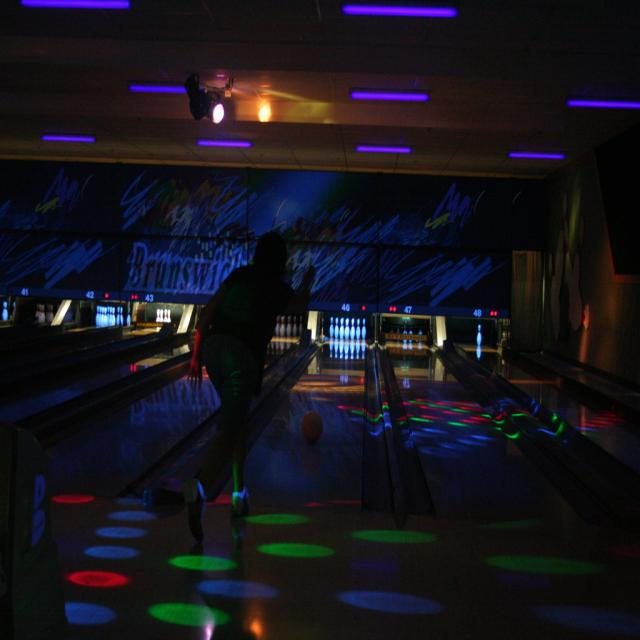Ball: (302, 411, 323, 441)
